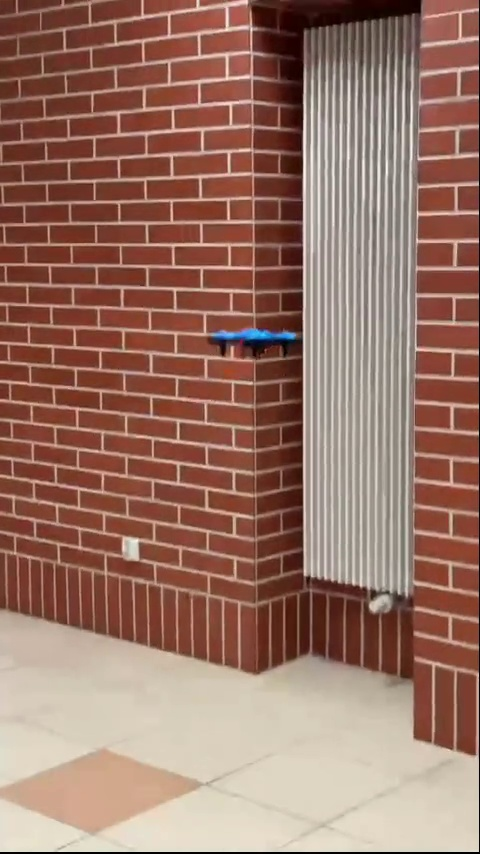drone: (205, 321, 301, 365)
